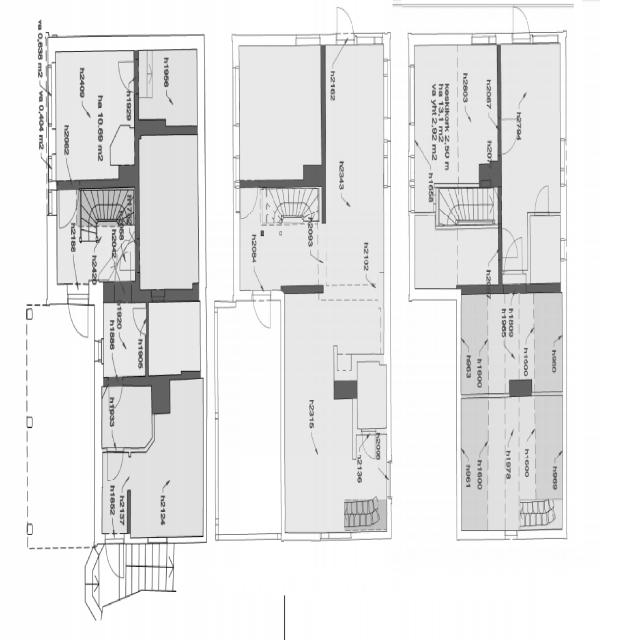door: (285, 291, 359, 530), (130, 382, 206, 540), (236, 40, 324, 176), (413, 43, 497, 179), (54, 45, 134, 172), (136, 46, 197, 127), (357, 358, 386, 430)
window: (231, 62, 245, 137), (383, 57, 395, 137), (382, 134, 394, 202), (230, 158, 244, 216), (46, 58, 56, 137), (559, 118, 569, 195), (407, 64, 417, 138), (294, 33, 327, 53), (316, 526, 351, 543), (462, 34, 498, 48), (96, 336, 104, 364), (560, 238, 567, 265)
zone: (66, 278, 89, 344), (249, 287, 275, 333), (58, 176, 82, 225), (509, 4, 535, 46), (102, 441, 127, 482), (497, 115, 524, 152), (496, 218, 518, 262), (116, 52, 140, 91), (503, 233, 524, 273), (361, 427, 380, 467), (532, 182, 551, 215), (129, 305, 148, 333)
